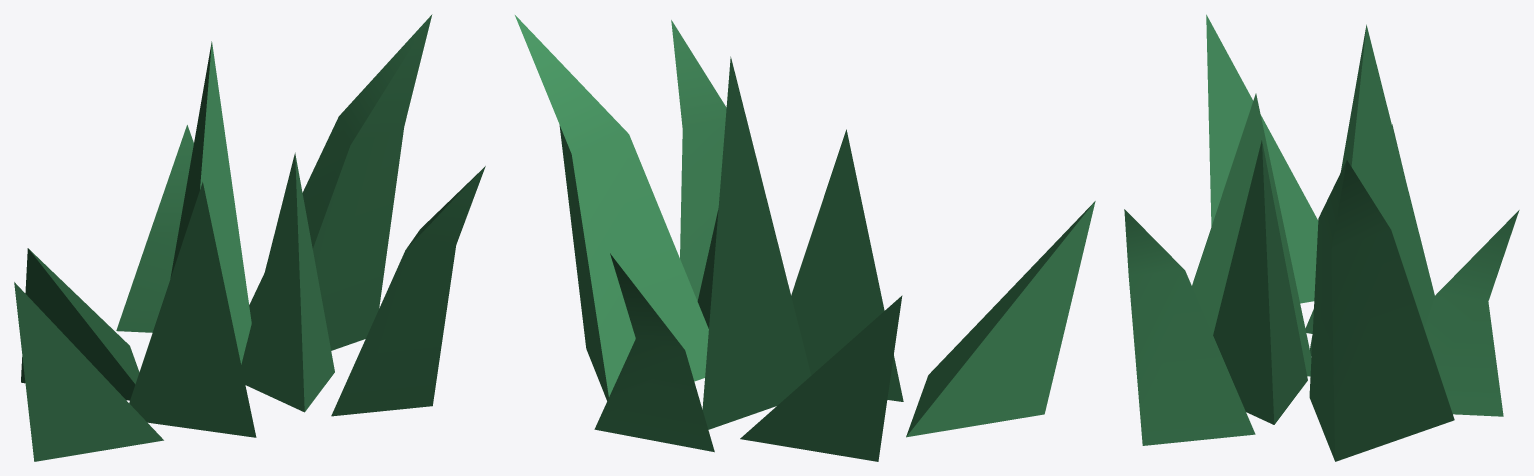
The model's file is grass1.fbx.
3 renders of one model, left to right at view 1: azimuth 30°, elevation 25°; view 2: azimuth 150°, elevation 25°; view 3: azimuth 270°, elevation 25°, orthographic. The views are drawn at different scales.
Visible parts, largest first — view 1: pPyramid9; view 2: pPyramid9; view 3: pPyramid9.
Part boxes in pixels (bbox=[...]): pPyramid9: bbox=[14, 14, 485, 461]; pPyramid9: bbox=[515, 15, 1095, 461]; pPyramid9: bbox=[1124, 14, 1519, 461].
Bounding box in the file's own units: 3.98 × 2.54 × 2.55.
